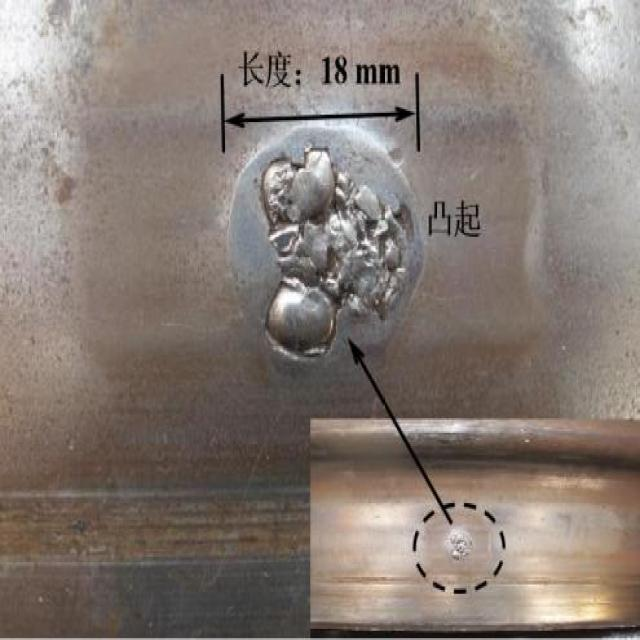Rollerpile: (248, 136, 420, 365)
